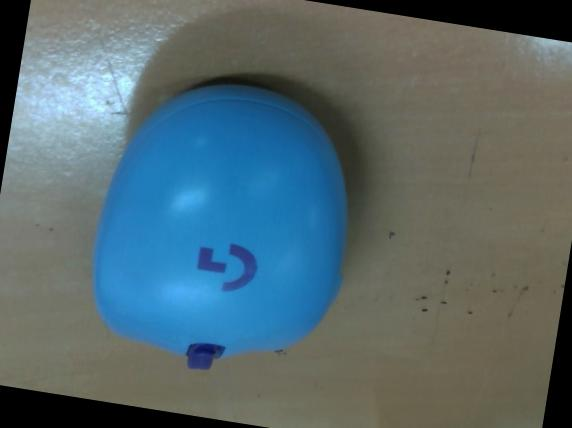mouse: (90, 81, 350, 370)
